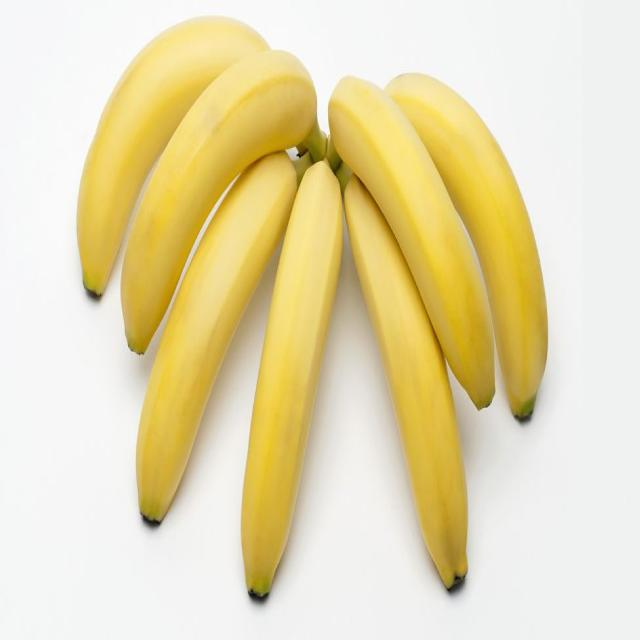Banana: (136, 151, 299, 521), (121, 53, 316, 353), (386, 73, 548, 418), (329, 76, 495, 408), (78, 18, 269, 294), (344, 176, 468, 586), (241, 162, 341, 594)
